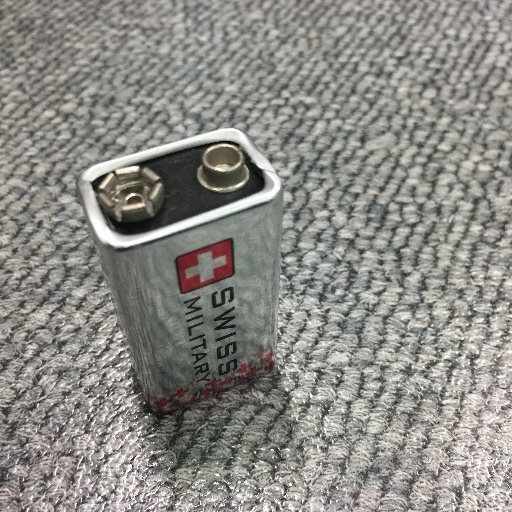Battery_3: (75, 115, 301, 430)
